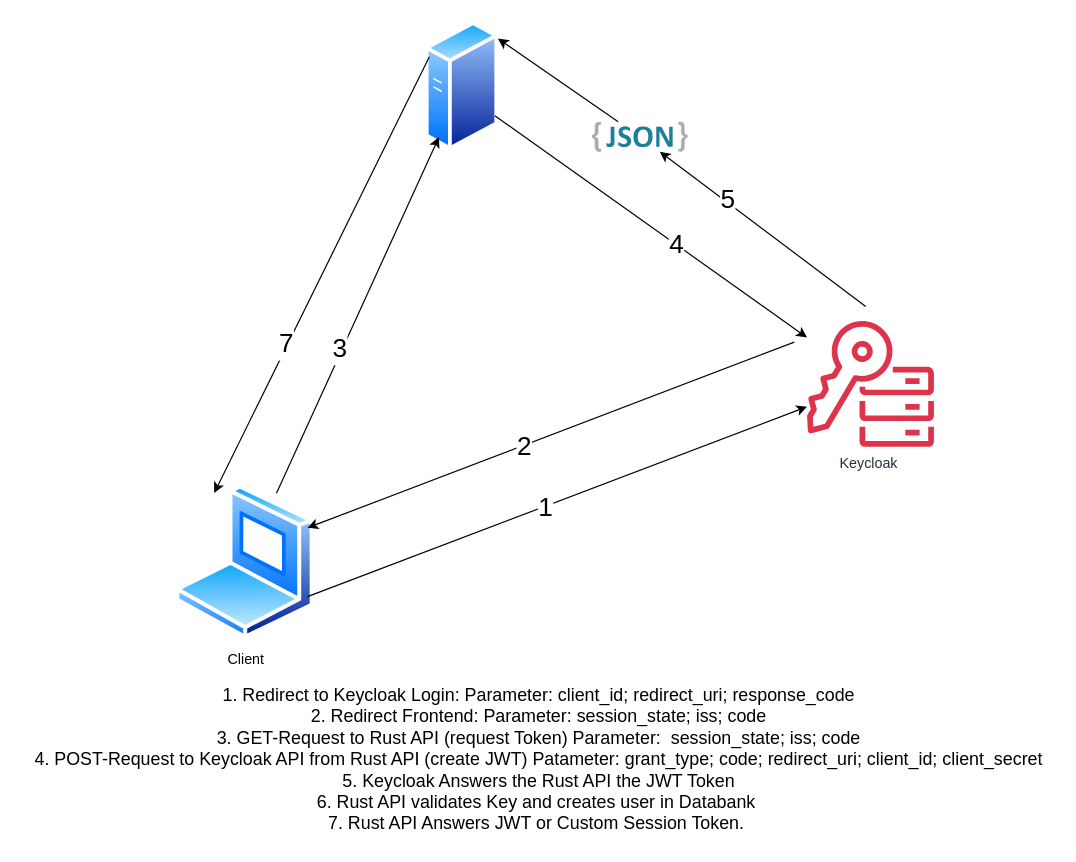
The diagram is 1076 pixels wide and 862 high, and some of its shapes have lost their labels. Here are the shapes that lost their labels. From the top down, the centre of each, then its label:
At pixel 461 85: "RUST Backend".
At pixel 639 136: "JWT".
